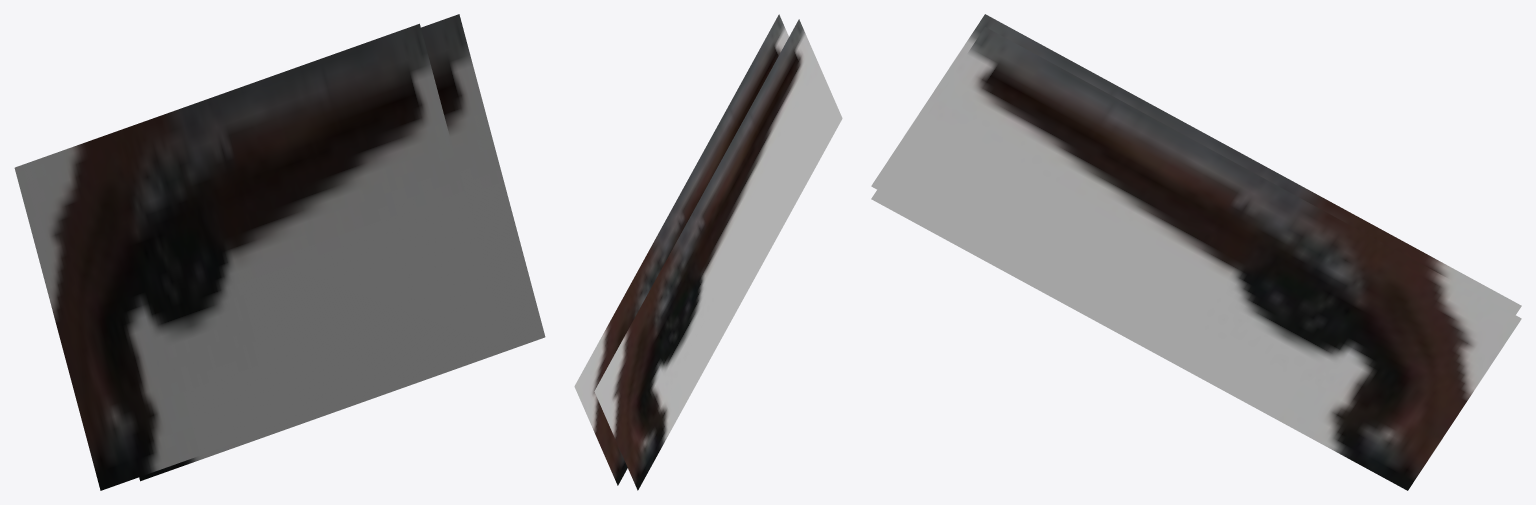
The model's file is sign1_eng_a_icon_weapons.fbx.
The picture shows the model from 3 angles, left to right: view 1: azimuth 30°, elevation 25°; view 2: azimuth 150°, elevation 25°; view 3: azimuth 270°, elevation 25°; orthographic projection. The views are drawn at different scales.
Parts seen in each view (by area): view 1: icons; view 2: icons; view 3: icons.
Boxes of the visible parts, x1,y1,x2,y2 form: icons: (14,14,545,490); icons: (574,14,842,490); icons: (871,14,1521,490).
Bounding box in the file's own units: 16.67 × 282 × 358.
Materials: 1 (1 with a texture image).
